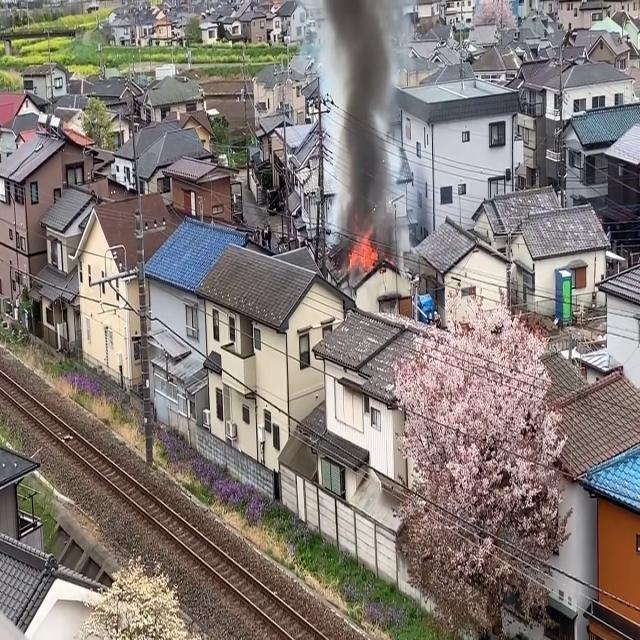Fire: (346, 227, 380, 276)
Smoke: (324, 0, 404, 250)
